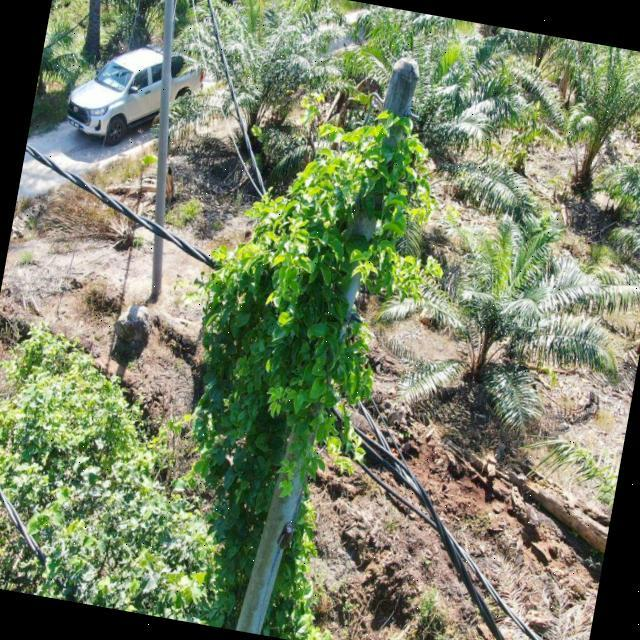critical vegetation: (157, 69, 448, 552)
